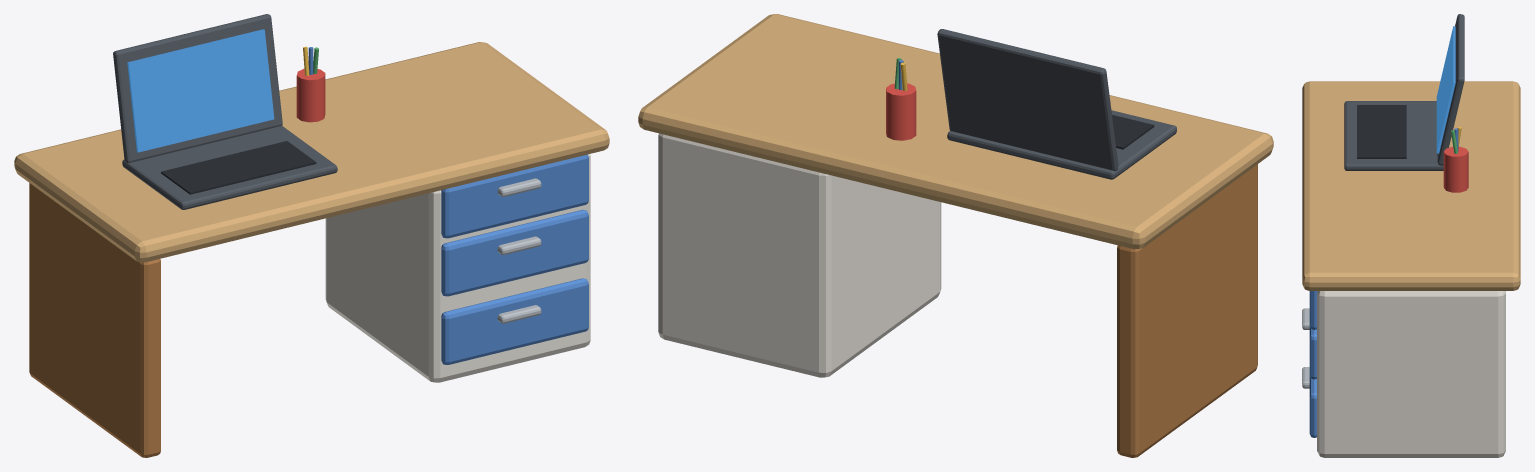
The model's file is mesa-estudo.glb.
The picture shows the model from 3 angles, left to right: view 1: azimuth 30°, elevation 25°; view 2: azimuth 150°, elevation 25°; view 3: azimuth 270°, elevation 25°; orthographic projection. The views are drawn at different scales.
Parts seen in each view (by area): view 1: mesa-estudo; view 2: mesa-estudo; view 3: mesa-estudo.
Part boxes in pixels (x1,y1,x2,y2): mesa-estudo: (14,14,609,457); mesa-estudo: (638,14,1273,457); mesa-estudo: (1302,14,1520,457).
Size of the model in its own units: 1.88 by 1.26 by 0.88.
